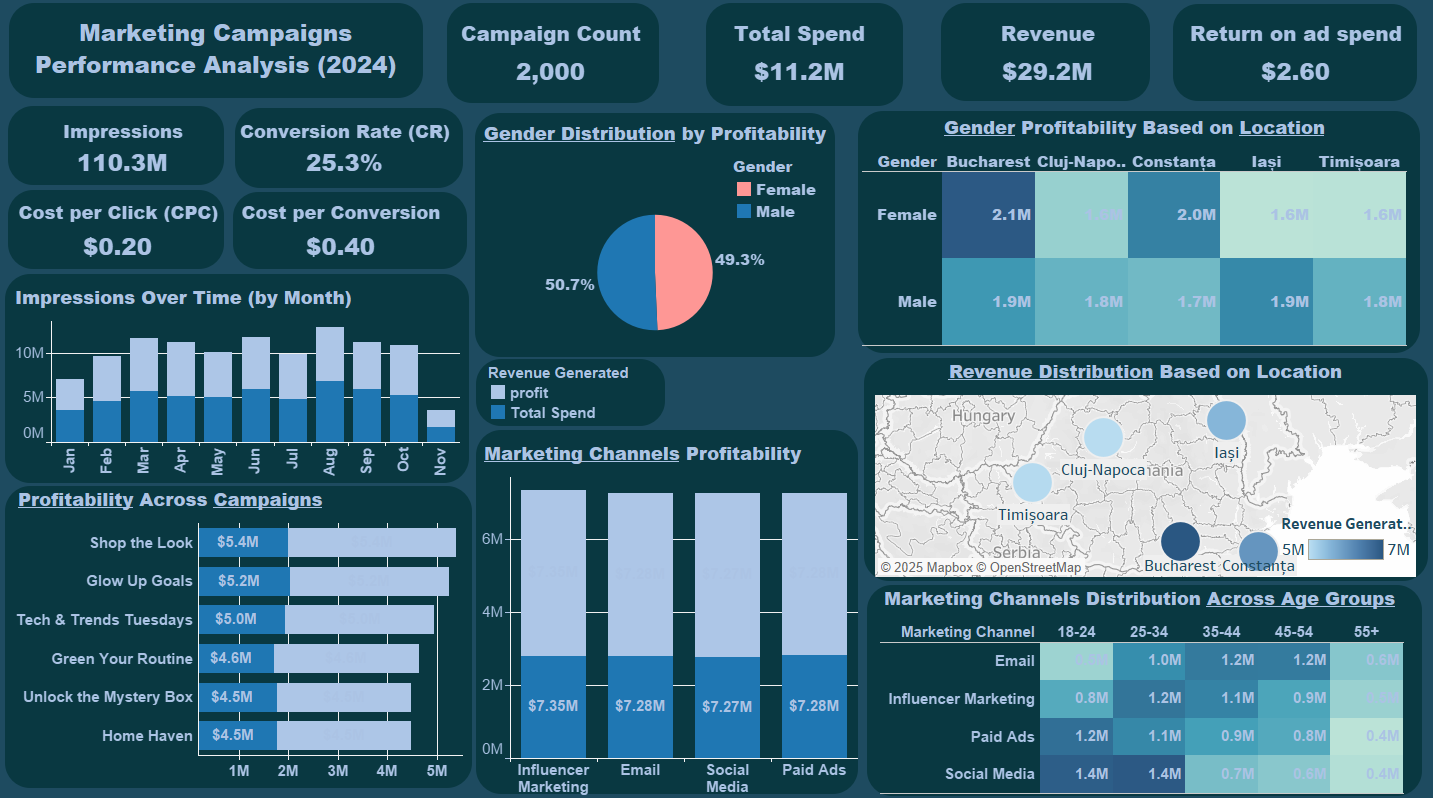

This screenshot's page, from the dashboard's own definition file:
{"tool":"tableau","page":{"name":"Dashboard 1","canvas":[1440,800],"ordinal":0},"visuals":[{"type":"worksheet","title":"border","mark":"Automatic","box":[0,0,1440,800]},{"type":"worksheet","title":"KPI 1","mark":"Automatic","box":[413,15,1008,89]},{"type":"worksheet","title":"gndr/loca","mark":"Square","rows":["Gender"],"cols":["Location"],"box":[866,109,545,236]},{"type":"worksheet","title":"gender_profitability_pie","mark":"Pie","box":[473,123,373,302]},{"type":"worksheet","title":"KPI 2","mark":"Automatic","box":[17,126,445,77]},{"type":"legend","title":"gender_profitability_pie","param":"[federated.0jzq0r61vllaas192r3z91mmq2nw].[none:Gender:nk]","box":[738,165,91,69]},{"type":"worksheet","title":"KPI 3","mark":"Automatic","box":[22,216,445,69]},{"type":"worksheet","title":"imp/month","mark":"Bar","rows":["Impressions"],"cols":["End_Date"],"box":[25,281,410,209]},{"type":"worksheet","title":"loca","mark":"Automatic","box":[871,348,541,223]},{"type":"legend","title":"top_compaigns","param":"[federated.0jzq0r61vllaas192r3z91mmq2nw].[:Measure Names]","box":[700,420,131,68]},{"type":"worksheet","title":"top_mrkt_chnl","mark":"Automatic","cols":["Marketing_Channel"],"box":[473,440,378,362]},{"type":"worksheet","title":"top_compaigns","mark":"Automatic","rows":["Campaign_Name"],"box":[14,482,449,303]},{"type":"legend","title":"loca","param":"[federated.0jzq0r61vllaas192r3z91mmq2nw].[sum:Revenue_Generated:qk]","box":[1275,503,137,78]},{"type":"worksheet","title":"chnl/age","mark":"Square","rows":["Marketing_Channel"],"cols":["Age_Group"],"box":[899,572,524,213]}]}

Visuals, with their boxes in screenshot pixels (x1, y1, x2, y2), scaled from the page's 1440x800 canvas onto the 1433x798 screenshot:
"border" worksheet: detection(0, 0, 1432, 797)
"KPI 1" worksheet: detection(411, 15, 1414, 104)
"gndr/loca" worksheet (Square marks): detection(862, 109, 1404, 344)
"gender_profitability_pie" worksheet (Pie marks): detection(471, 123, 842, 424)
"KPI 2" worksheet: detection(17, 126, 460, 202)
"gender_profitability_pie" legend: detection(734, 165, 825, 233)
"KPI 3" worksheet: detection(22, 215, 465, 284)
"imp/month" worksheet (Bar marks): detection(25, 280, 433, 489)
"loca" worksheet: detection(867, 347, 1405, 570)
"top_compaigns" legend: detection(697, 419, 827, 487)
"top_mrkt_chnl" worksheet: detection(471, 439, 847, 797)
"top_compaigns" worksheet: detection(14, 481, 461, 783)
"loca" legend: detection(1269, 502, 1405, 580)
"chnl/age" worksheet (Square marks): detection(895, 571, 1416, 783)
